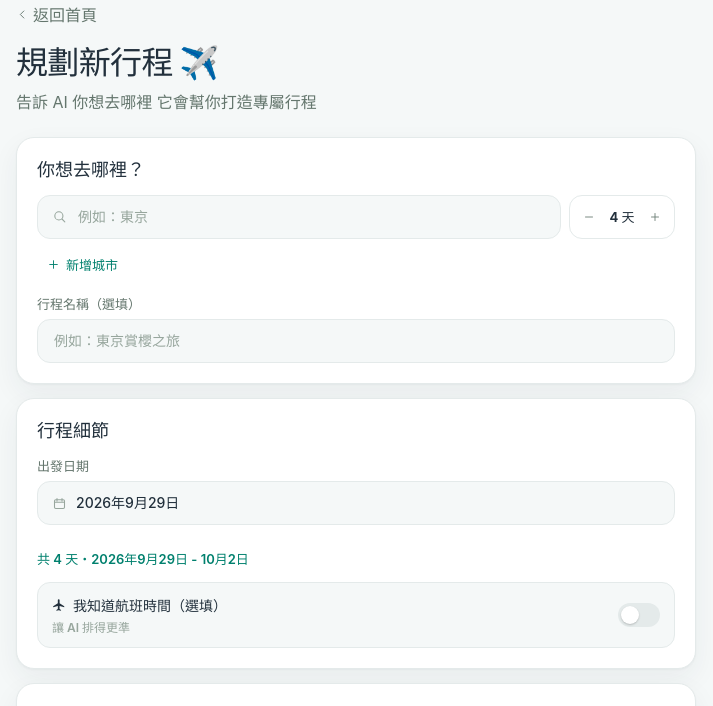
Test: CreateTripPage › adding a city adds a day stepper and grows the total day count; removing the added city restores the single-city state
The width and height of the screenshot is (713, 706).
In the dropdown with placeholder "例如：東京": {"x": 311, "y": 217} [76,208,546,226], type "京都，日本"
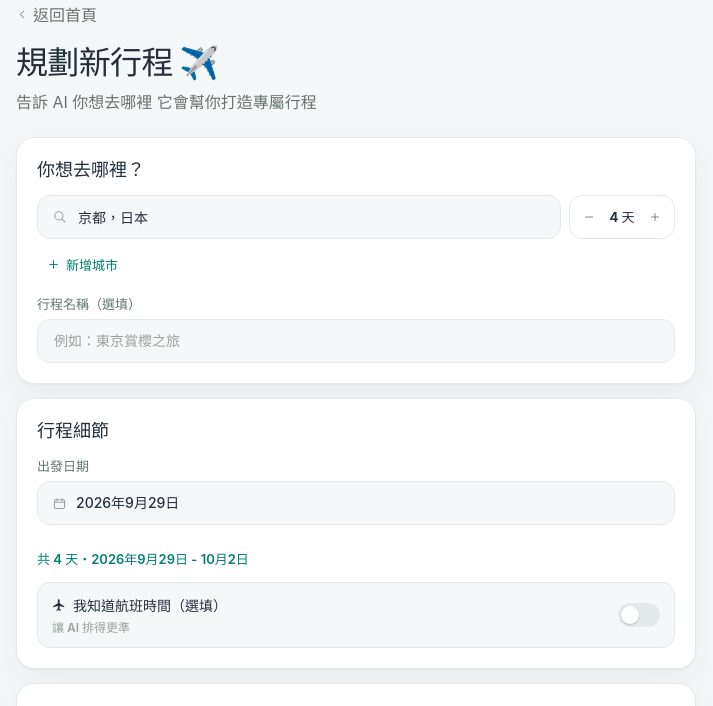
Expected: the number of dropdowns is 1, [76,208,546,226]
Click the button with class "destination-list__add": {"x": 82, "y": 264} [37,249,128,280]
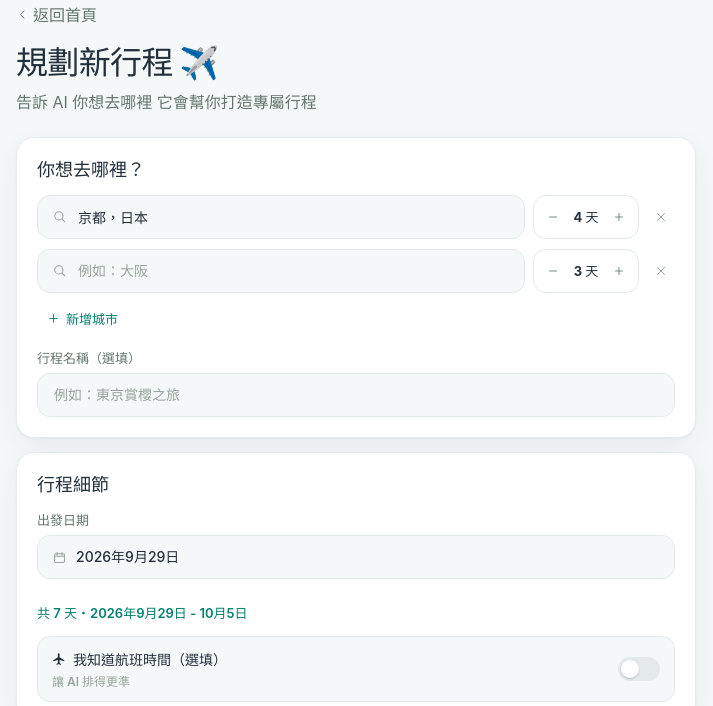
Result: the number of dropdowns is 2 at [76,208,510,226]; [76,262,510,280]
Result: the number of buttons with class "destination-list__remove" is 2 at [647,203,675,231]; [647,257,675,285]
Click the button named "增加天數" next to "3 天": {"x": 619, "y": 271} [606,258,632,284]
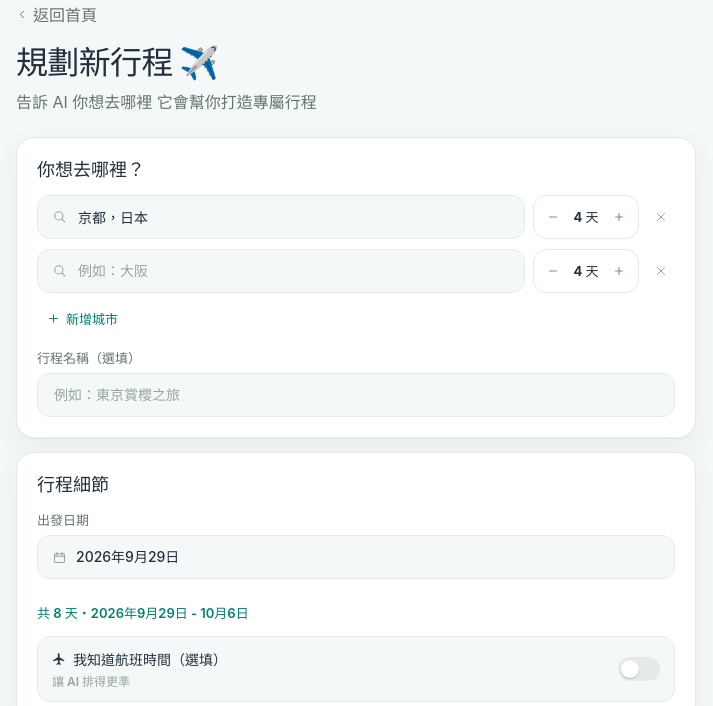
Click the 2nd button with class "destination-list__remove": {"x": 661, "y": 271} [647,257,675,285]
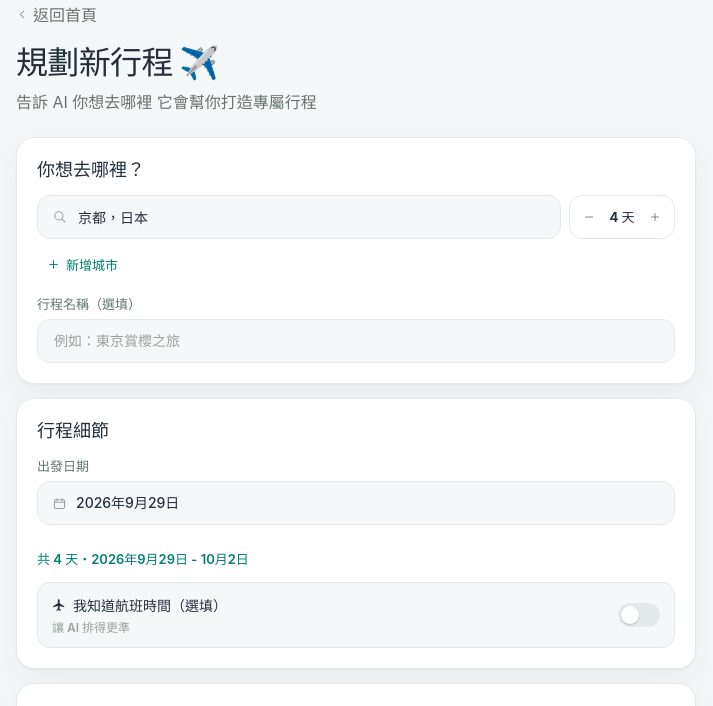
Result: the number of dropdowns is 1 at [76,208,546,226]
